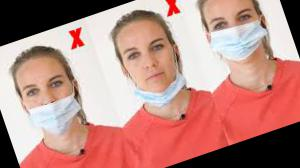mask_weared_incorrect: (119, 33, 188, 110), (18, 67, 82, 136)
with_mask: (205, 1, 271, 69)
